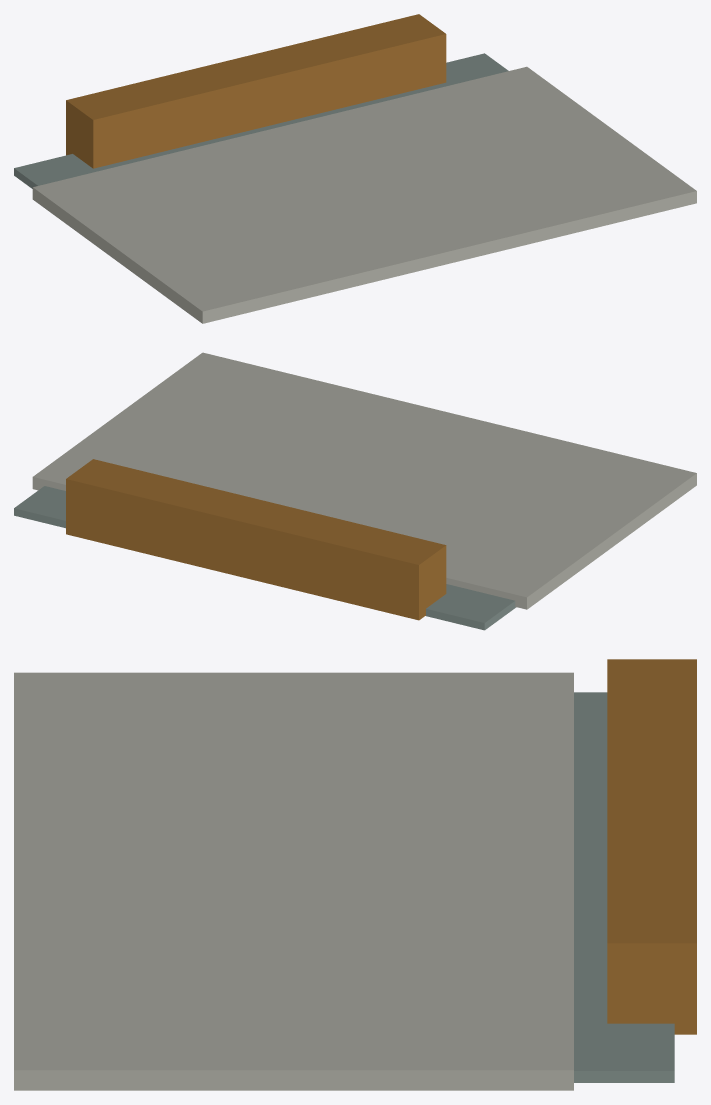
The model's file is SM_ParadaBus_v4_Caida_LOD0.fbx.
3 views of the same model, one above another, from view 1: azimuth 30°, elevation 25°; view 2: azimuth 150°, elevation 25°; view 3: azimuth 270°, elevation 25° (orthographic). The views are drawn at different scales.
Parts seen in each view (by area): view 1: SM_urbano_extra_v9_LOD0; view 2: SM_urbano_extra_v9_LOD0; view 3: SM_urbano_extra_v9_LOD0.
Part boxes in pixels (<box>): SM_urbano_extra_v9_LOD0: <box>14,14,696,323</box>; SM_urbano_extra_v9_LOD0: <box>14,352,696,630</box>; SM_urbano_extra_v9_LOD0: <box>14,659,696,1090</box>.
Bounding box in the file's own units: 4.2 × 0.455 × 3.05.
